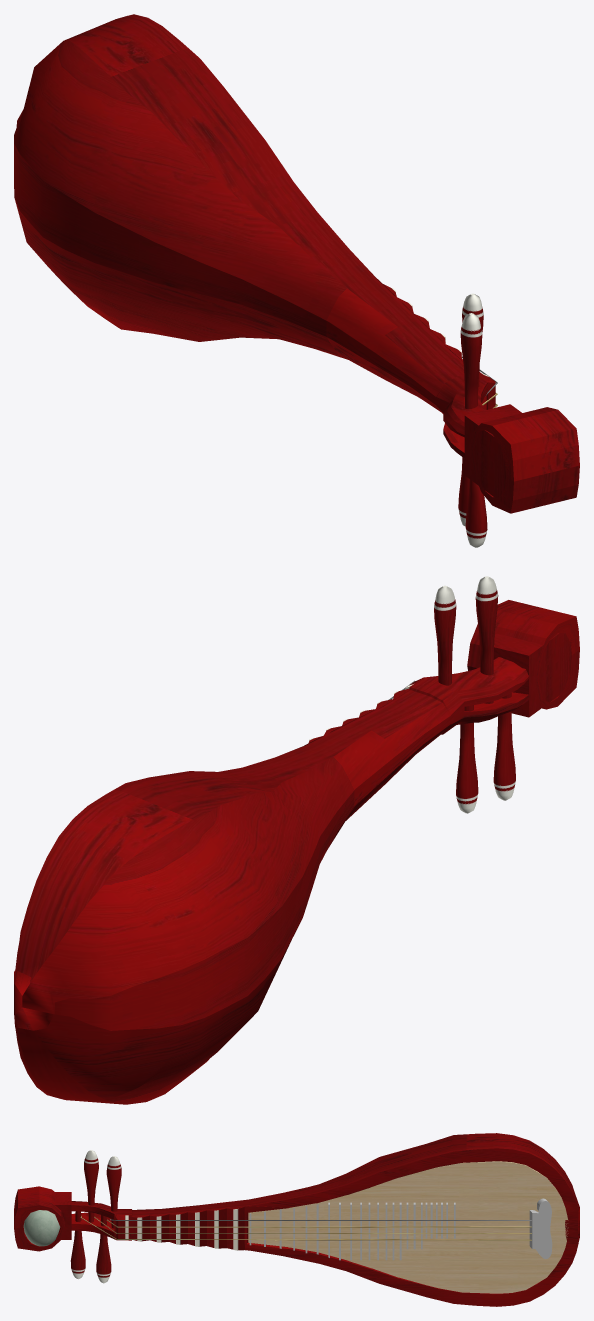
Rendered from pipa_standard_pro.fbx.
The picture shows the model from 3 angles, top to bottom: view 1: azimuth 30°, elevation 25°; view 2: azimuth 150°, elevation 25°; view 3: azimuth 270°, elevation 25°; orthographic projection. The views are drawn at different scales.
Visible parts, largest first — view 1: pCube1, pPipe1, pCube31, pCylinder14, pCylinder4; view 2: pCube1, pPipe1, pCube31, pCylinder14, pCylinder15, pCylinder13, pCylinder4; view 3: pCube2, pCube1, pPipe1, polySurface1, pSphere1, pCylinder7, pCylinder5, pCylinder14, pCylinder15, pCube29, pCylinder4, pCylinder13 (+10 smaller).
Boxes of the visible parts, bbox=[...] form: pCube1: bbox=[14, 14, 489, 458]; pPipe1: bbox=[470, 407, 579, 513]; pCube31: bbox=[464, 404, 521, 508]; pCylinder14: bbox=[460, 313, 482, 409]; pCylinder4: bbox=[465, 479, 487, 547]; pCube1: bbox=[14, 657, 528, 1104]; pPipe1: bbox=[467, 600, 579, 709]; pCube31: bbox=[493, 630, 576, 717]; pCylinder14: bbox=[475, 576, 498, 703]; pCylinder15: bbox=[434, 585, 456, 685]; pCylinder13: bbox=[456, 705, 478, 813]; pCylinder4: bbox=[493, 693, 515, 800]; pCube2: bbox=[248, 1161, 568, 1293]; pCube1: bbox=[71, 1133, 579, 1306]; pPipe1: bbox=[14, 1186, 64, 1251]; polySurface1: bbox=[529, 1198, 552, 1258]; pSphere1: bbox=[23, 1210, 60, 1246]; pCylinder7: bbox=[107, 1219, 531, 1227]; pCylinder5: bbox=[80, 1216, 531, 1240]; pCylinder14: bbox=[84, 1150, 98, 1222]; pCylinder15: bbox=[106, 1156, 121, 1228]; pCube29: bbox=[227, 1207, 248, 1250]; pCylinder4: bbox=[70, 1211, 85, 1279]; pCylinder13: bbox=[96, 1215, 111, 1283].
Bounding box in the file's own units: 21.79 × 37.8 × 122.
